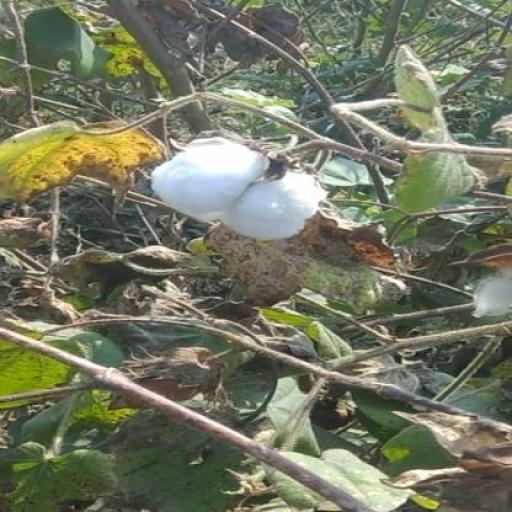cotton_ready: (126, 121, 336, 241)
